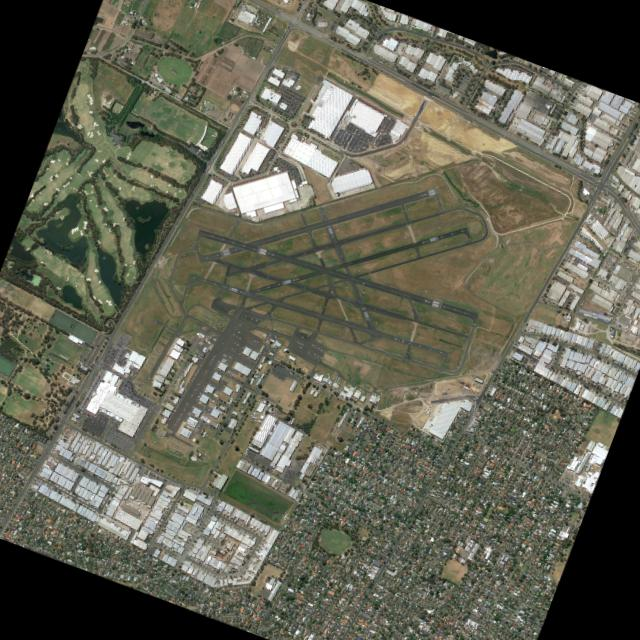plane: (251, 409, 259, 417), (250, 413, 258, 420), (256, 410, 262, 415), (159, 426, 164, 430), (199, 391, 204, 395), (228, 355, 233, 359), (147, 376, 152, 380), (187, 412, 191, 416), (197, 394, 201, 398), (255, 404, 259, 408), (250, 329, 254, 333), (335, 376, 339, 380), (314, 344, 318, 348), (273, 323, 278, 326), (180, 424, 183, 428), (213, 354, 216, 358), (203, 405, 206, 409), (202, 412, 206, 415), (223, 384, 227, 387), (230, 380, 234, 383), (161, 435, 165, 438), (178, 446, 182, 449), (273, 327, 277, 330), (301, 342, 305, 345), (301, 335, 305, 338), (238, 352, 242, 355), (242, 346, 246, 349), (307, 333, 310, 337), (337, 381, 341, 384), (317, 354, 320, 358), (320, 348, 324, 351), (318, 339, 322, 342), (325, 359, 329, 362), (331, 354, 335, 357), (192, 405, 195, 408), (170, 414, 173, 417), (174, 408, 177, 411), (175, 405, 178, 408), (183, 407, 186, 410), (186, 402, 189, 405), (179, 397, 182, 400), (191, 393, 194, 396), (185, 388, 188, 391), (194, 388, 197, 391), (168, 416, 171, 419), (180, 412, 183, 415), (178, 415, 181, 418), (177, 417, 180, 420), (198, 448, 201, 451), (202, 447, 205, 450), (206, 433, 209, 436), (184, 436, 187, 439), (182, 435, 185, 438), (179, 433, 182, 436), (177, 431, 180, 434), (157, 424, 160, 427), (197, 382, 200, 385), (205, 369, 208, 372), (214, 367, 217, 370), (199, 363, 202, 366), (210, 359, 213, 362), (212, 357, 215, 360), (218, 360, 221, 363), (230, 372, 233, 375), (232, 373, 235, 376), (233, 374, 236, 377), (204, 371, 207, 374), (195, 371, 198, 374), (194, 373, 197, 376), (208, 408, 211, 411), (209, 405, 212, 408), (210, 401, 213, 404), (220, 389, 223, 392), (213, 385, 216, 388), (188, 380, 191, 383), (192, 376, 195, 379), (188, 446, 191, 449), (158, 349, 161, 352), (154, 440, 157, 443), (173, 449, 176, 452), (176, 451, 179, 454), (181, 447, 184, 450), (171, 442, 174, 445), (173, 437, 176, 440), (178, 440, 181, 443), (170, 448, 173, 451), (162, 360, 165, 363), (153, 358, 156, 361), (148, 367, 151, 370), (239, 323, 242, 326), (254, 339, 257, 342), (269, 333, 272, 336), (267, 325, 270, 328), (207, 311, 210, 314), (225, 308, 228, 311), (245, 315, 248, 318), (300, 345, 303, 348), (299, 341, 302, 344), (256, 340, 259, 343), (238, 330, 241, 333), (257, 401, 260, 404), (233, 349, 236, 352), (231, 347, 234, 350), (237, 343, 240, 346), (234, 341, 237, 344), (239, 336, 242, 339), (236, 334, 239, 337), (233, 332, 236, 335), (297, 340, 300, 343), (308, 350, 311, 353), (334, 379, 337, 382), (314, 353, 317, 356), (320, 356, 323, 359), (324, 350, 327, 353), (318, 346, 321, 349), (312, 343, 315, 346), (330, 362, 333, 365), (328, 360, 331, 363), (338, 357, 341, 360), (203, 410, 207, 412), (208, 383, 212, 385), (171, 412, 174, 414), (177, 401, 179, 404), (178, 399, 180, 402), (196, 398, 199, 400), (199, 440, 201, 443), (187, 438, 190, 440), (174, 423, 177, 425), (176, 420, 178, 423), (197, 368, 199, 371), (209, 362, 211, 365), (228, 371, 231, 373), (252, 361, 255, 363), (247, 356, 250, 358), (204, 386, 206, 389), (191, 378, 193, 381), (191, 447, 193, 450), (181, 442, 184, 444), (158, 434, 161, 436), (165, 437, 168, 439), (181, 454, 184, 456), (184, 449, 187, 451), (176, 445, 179, 447), (176, 439, 179, 441), (150, 363, 153, 365), (473, 323, 476, 325), (263, 339, 265, 342), (275, 335, 277, 338), (251, 317, 253, 320), (256, 318, 258, 321), (232, 340, 235, 342), (222, 342, 225, 344), (182, 393, 184, 395), (197, 451, 199, 453), (194, 454, 196, 456), (335, 356, 337, 358), (207, 413, 210, 414)
small-vehicle: (9, 516, 10, 517)
storage-tank: (256, 132, 260, 136), (277, 168, 281, 172), (172, 43, 176, 47), (3, 283, 6, 287), (4, 281, 8, 284), (241, 170, 245, 173), (237, 212, 240, 216), (169, 42, 173, 45), (302, 137, 305, 140), (325, 135, 328, 138), (336, 193, 338, 196), (502, 104, 504, 107), (354, 102, 356, 104), (355, 100, 357, 102)
